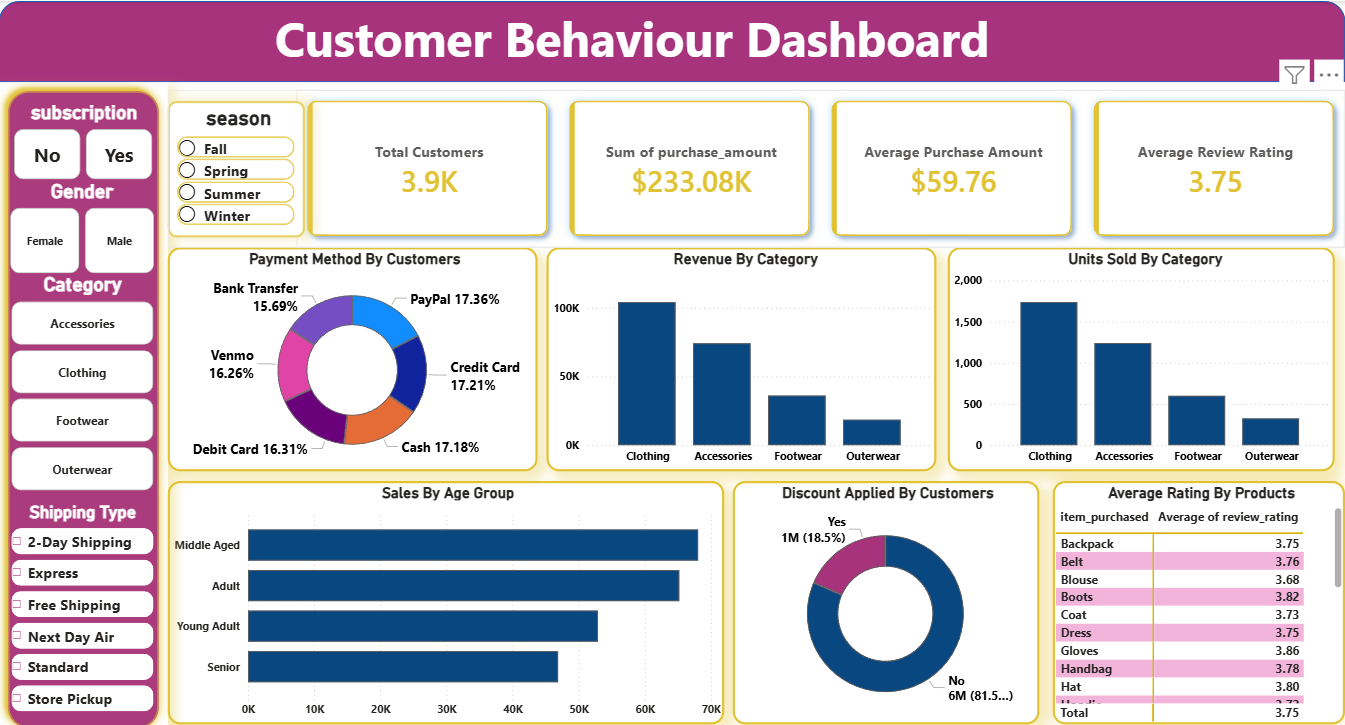

What the dashboard file says about the page in this screenshot:
{"tool":"powerbi","page":{"name":"Page 1","canvas":[1500,820],"ordinal":0},"visuals":[{"type":"cardVisual","fields":{"Data":["public customer_behaviour.Total Customers","Sum(public customer_behaviour.purchase_amount)","public customer_behaviour.Average Purchase Amount","public customer_behaviour.Average Review Rating"]},"box":[331.4,98.9,1168.5,175.5],"z":0,"group":"g2"},{"type":"donutChart","title":"Payment Method By Customers","fields":{"Category":["public customer_behaviour.payment_method"],"Y":["CountNonNull(public customer_behaviour.customer_id)"]},"box":[188,274.4,412.2,249.3],"z":0,"group":"g1"},{"type":"clusteredBarChart","title":"Sales By Age Group","fields":{"Category":["public customer_behaviour.age_group"],"Y":["Sum(public customer_behaviour.purchase_amount)"]},"box":[188,534.8,619.7,271.6],"z":0},{"type":"donutChart","title":"Discount Applied By Customers","fields":{"Category":["public customer_behaviour.discount_applied"],"Y":["Sum(public customer_behaviour.customer_id)"]},"box":[817.5,534.8,341.2,271.6],"z":0},{"type":"shape","box":[0,0,1499.9,90.5],"z":1000},{"type":"clusteredColumnChart","title":"Units Sold  By Category","fields":{"Category":["public customer_behaviour.category"],"Y":["CountNonNull(public customer_behaviour.customer_id)"]},"box":[1056.5,274.4,430.9,249.3],"z":1000,"group":"g1"},{"type":"textbox","box":[270.2,0,870.4,89.1],"z":2000},{"type":"clusteredColumnChart","title":"Revenue By Category","fields":{"Category":["public customer_behaviour.category"],"Y":["Sum(public customer_behaviour.purchase_amount)"]},"box":[610,274.4,434.5,249.3],"z":2000,"group":"g1"},{"type":"shape","box":[0,90.5,188,729.8],"z":3000},{"type":"advancedSlicerVisual","title":"subscription","fields":{"Values":["public customer_behaviour.subscription_status"]},"box":[16.7,111.4,156,87.7],"z":5000},{"type":"advancedSlicerVisual","title":"Gender","fields":{"Values":["public customer_behaviour.gender"]},"box":[12.5,199.2,160.2,104.5],"z":6000},{"type":"advancedSlicerVisual","title":"Category","fields":{"Values":["public customer_behaviour.category"]},"box":[13.9,303.6,158.8,245.1],"z":7000},{"type":"listSlicer","title":"Shipping Type","fields":{"Values":["public customer_behaviour.shipping_type"]},"box":[13.9,558.5,158.8,236.8],"z":7001},{"type":"group","id":"g1","title":"Group 1","box":[188,274.4,1299.4,249.3],"z":7004},{"type":"pivotTable","title":"Average Rating By Products","fields":{"Rows":["public customer_behaviour.item_purchased"],"Values":["Avg(public customer_behaviour.review_rating)"]},"box":[1174,534.8,325.9,271.6],"z":7005},{"type":"listSlicer","fields":{"Values":["public customer_behaviour.season"]},"box":[188,111.4,153.2,151.8],"z":7006,"group":"g2"},{"type":"group","id":"g2","title":"Group 2","box":[188,98.9,1311.9,175.5],"z":7007}]}

Visuals, with their boxes in screenshot pixels (x1, y1, x2, y2), scaled from the page's 1500x820 canvas onto the 1345x725 screenshot:
cardVisual - public customer_behaviour.Total Customers x Sum(public customer_behaviour.purchase_amount): (297, 87, 1344, 243)
"Payment Method By Customers" donutChart: (169, 243, 538, 463)
"Sales By Age Group" clusteredBarChart: (169, 473, 724, 713)
"Discount Applied By Customers" donutChart: (733, 473, 1039, 713)
shape: (0, 0, 1344, 80)
"Units Sold  By Category" clusteredColumnChart: (947, 243, 1334, 463)
textbox: (242, 0, 1023, 79)
"Revenue By Category" clusteredColumnChart: (547, 243, 937, 463)
shape: (0, 80, 169, 724)
"subscription" advancedSlicerVisual: (15, 98, 155, 176)
"Gender" advancedSlicerVisual: (11, 176, 155, 269)
"Category" advancedSlicerVisual: (12, 268, 155, 485)
"Shipping Type" listSlicer: (12, 494, 155, 703)
"Group 1" group: (169, 243, 1334, 463)
"Average Rating By Products" pivotTable: (1053, 473, 1344, 713)
listSlicer - public customer_behaviour.season: (169, 98, 306, 233)
"Group 2" group: (169, 87, 1344, 243)
